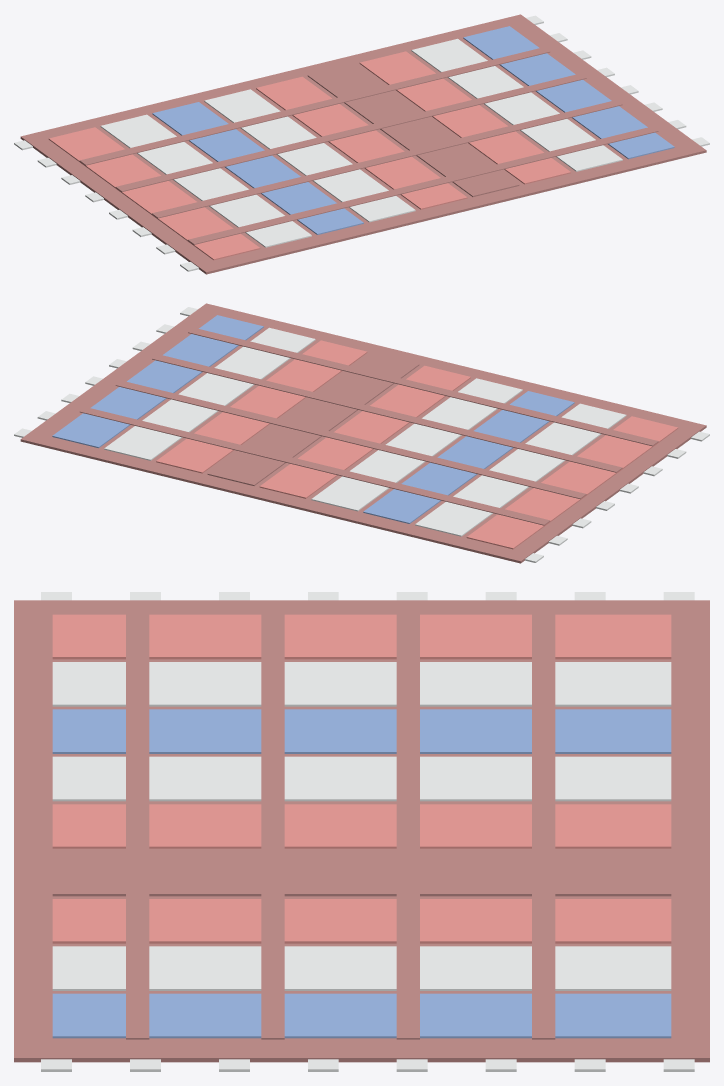
File: rugKilim.glb
The picture shows the model from 3 angles, top to bottom: view 1: azimuth 30°, elevation 25°; view 2: azimuth 150°, elevation 25°; view 3: azimuth 270°, elevation 25°; orthographic projection. The views are drawn at different scales.
Parts seen in each view (by area): view 1: rugKilim; view 2: rugKilim; view 3: rugKilim.
Boxes of the visible parts, left/top/right/bottom form: rugKilim: left=14, top=14, right=709, bottom=274; rugKilim: left=14, top=303, right=709, bottom=563; rugKilim: left=14, top=592, right=709, bottom=1071.
Bounding box in the file's own units: 1.46 × 0.011 × 0.9.
